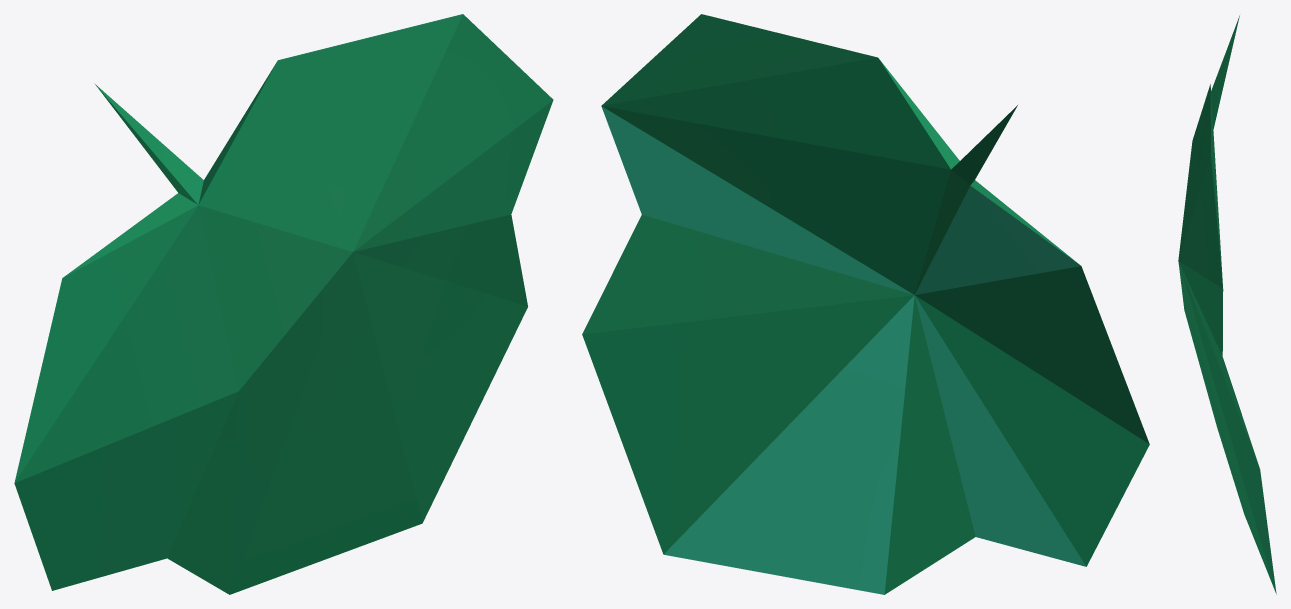
The model's file is mod_LeafUI.fbx.
3 renders of one model, left to right at view 1: azimuth 30°, elevation 25°; view 2: azimuth 150°, elevation 25°; view 3: azimuth 270°, elevation 25°, orthographic. The views are drawn at different scales.
Visible parts, largest first — view 1: BGCard_Front.002; view 2: BGCard_Front.002; view 3: BGCard_Front.002.
Boxes of the visible parts, <box> form: BGCard_Front.002: <box>14,14,553,594</box>; BGCard_Front.002: <box>582,14,1149,594</box>; BGCard_Front.002: <box>1178,15,1276,594</box>.
Bounding box in the file's own units: 9.53 × 8.93 × 1.78.
